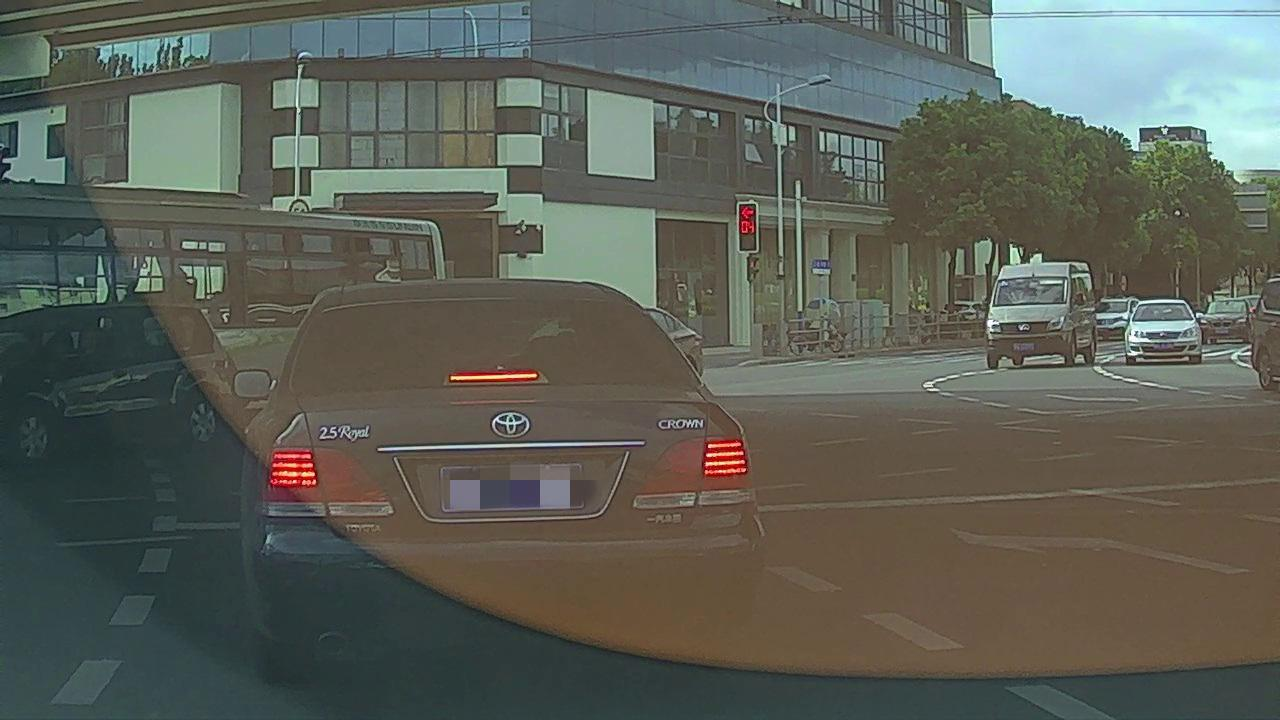traffic_light: (737, 203, 757, 252)
